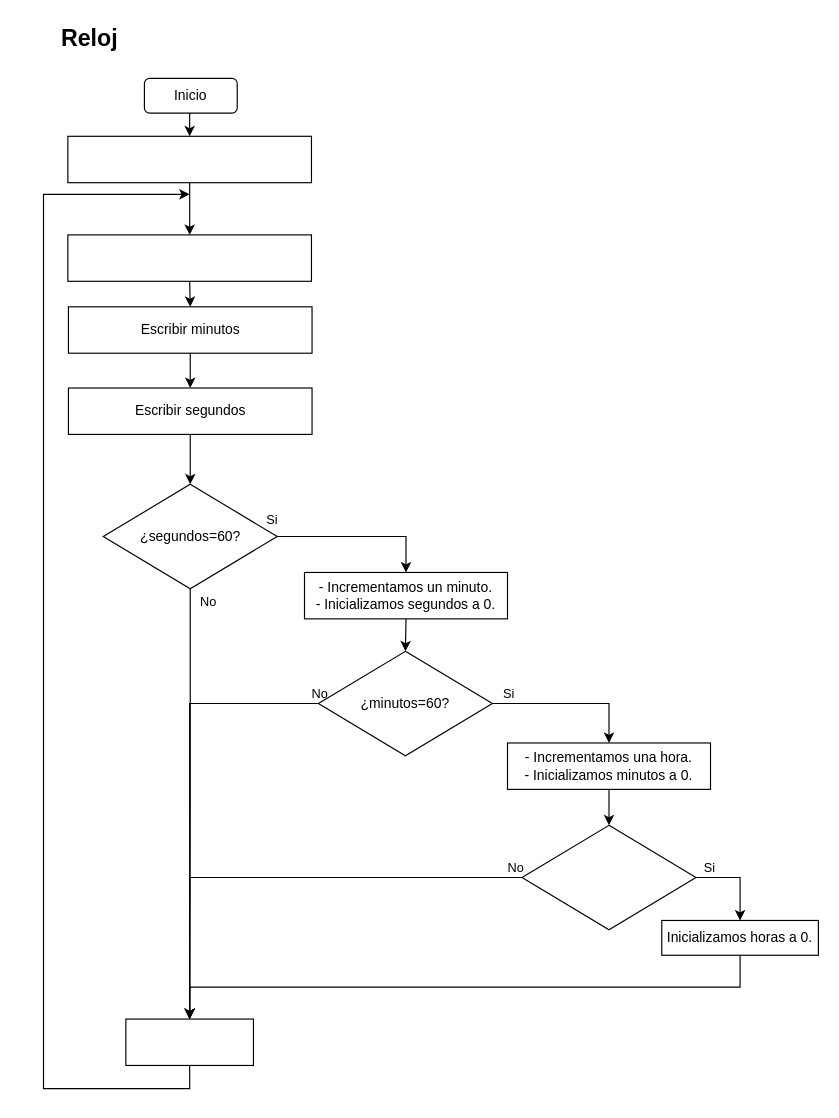
Image size: 839x1118. Some labels were removed from this diagram. The shapes that lost their labels are listed below. From the top down, each one's box as (x1, y1, x2, y2) in pixels, then its label:
(67, 135, 311, 183): Inicializar variables: horas, minutos y segundos
(67, 234, 311, 281): Escribir horas
(521, 824, 696, 930): ¿horas=24?
(125, 1018, 253, 1065): esperar 1 segundo
